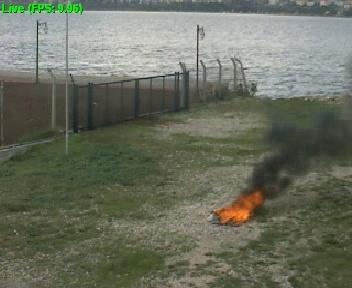fire: (216, 196, 249, 223)
smoke: (249, 91, 352, 218)
